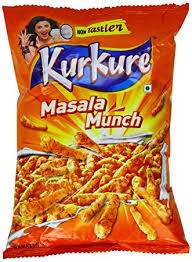kurkure: (32, 45, 141, 83)
plastic: (1, 2, 187, 254)
wrapper: (15, 11, 173, 235)
